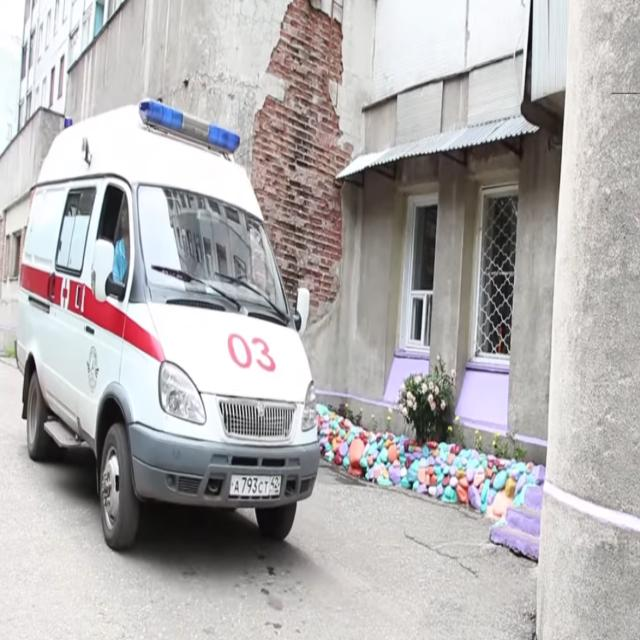ambulance: (16, 96, 322, 556)
